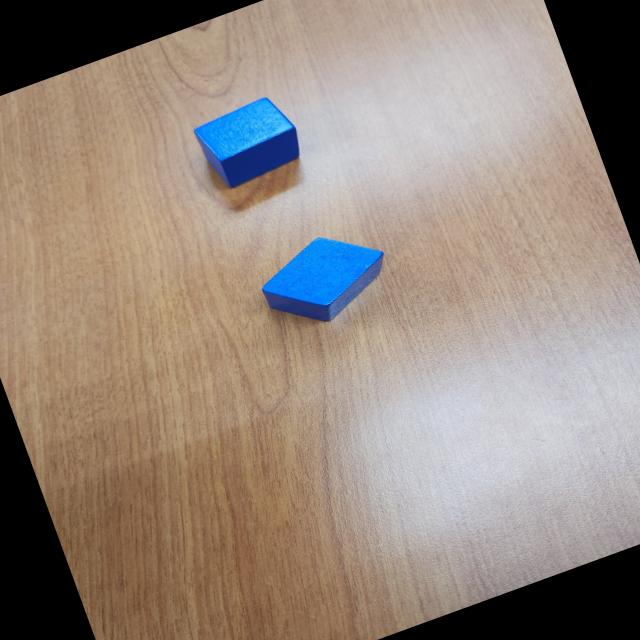blue: (253, 218, 402, 340), (190, 89, 310, 195)
